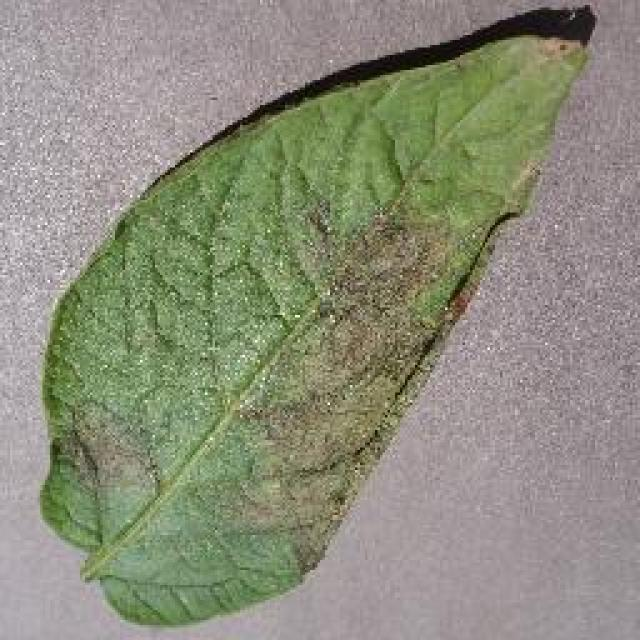late_blight: (32, 0, 599, 632)
